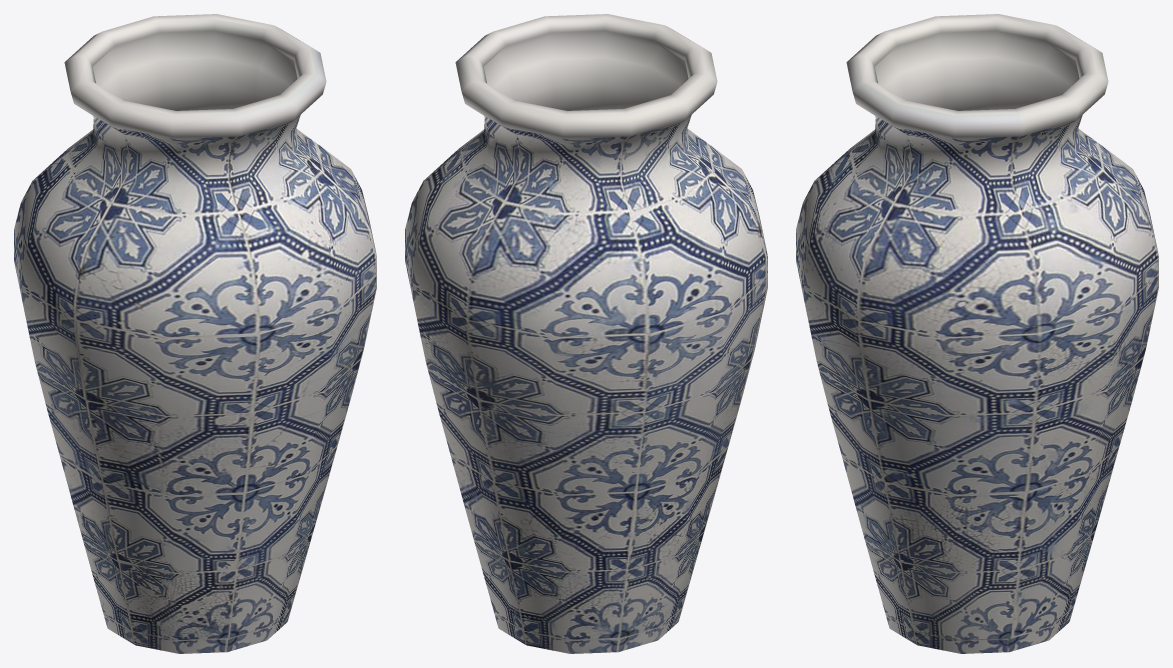
File: Vase_A.fbx
The picture shows the model from 3 angles, left to right: view 1: azimuth 30°, elevation 25°; view 2: azimuth 150°, elevation 25°; view 3: azimuth 270°, elevation 25°; orthographic projection.
Visible parts, largest first — view 1: Vase_A; view 2: Vase_A; view 3: Vase_A.
Boxes of the visible parts, box(x1,y1,x2,y2) form: Vase_A: box(14, 14, 376, 653); Vase_A: box(405, 14, 767, 653); Vase_A: box(796, 14, 1158, 653).
Bounding box in the file's own units: 0.6585 × 1.1 × 0.6585.
